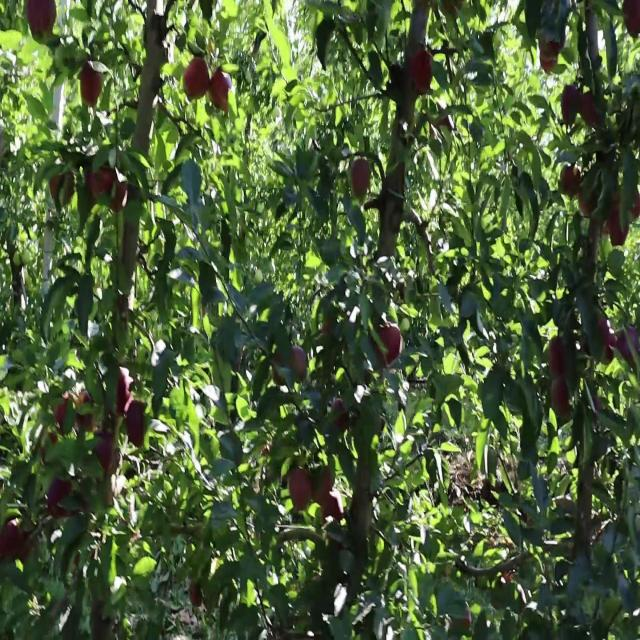apple: (116, 369, 144, 441), (56, 391, 95, 434), (608, 191, 630, 249), (408, 49, 434, 98), (184, 56, 211, 101), (540, 28, 564, 76), (48, 476, 73, 521), (88, 163, 116, 203), (120, 405, 146, 448), (28, 1, 57, 39), (288, 469, 313, 512), (80, 63, 104, 107), (96, 433, 120, 476), (0, 519, 25, 560), (552, 376, 572, 425), (116, 369, 136, 418), (380, 327, 403, 368), (560, 85, 581, 128), (560, 163, 583, 201), (352, 156, 372, 199), (212, 71, 232, 114), (312, 469, 334, 508), (52, 170, 75, 206), (620, 327, 640, 368), (580, 177, 599, 220), (108, 177, 129, 215), (580, 92, 601, 130), (56, 398, 80, 428), (548, 341, 567, 377), (604, 327, 619, 368), (332, 398, 350, 432), (40, 433, 61, 462), (292, 348, 308, 382), (432, 113, 453, 137), (20, 533, 35, 565), (596, 319, 610, 345), (328, 497, 343, 521), (632, 191, 640, 224), (192, 583, 202, 608)
